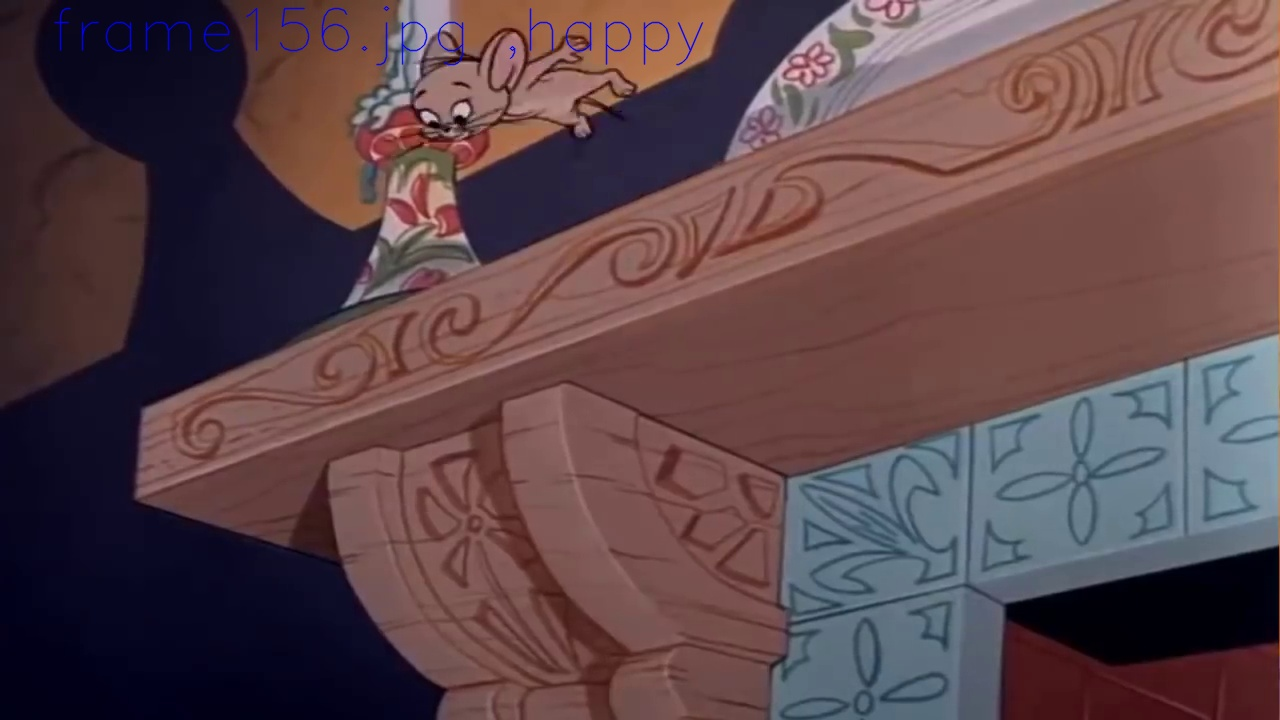happy: (414, 82, 473, 142)
